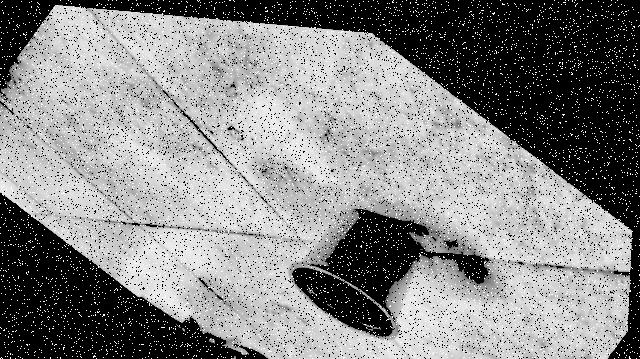pot: (289, 208, 419, 339)
